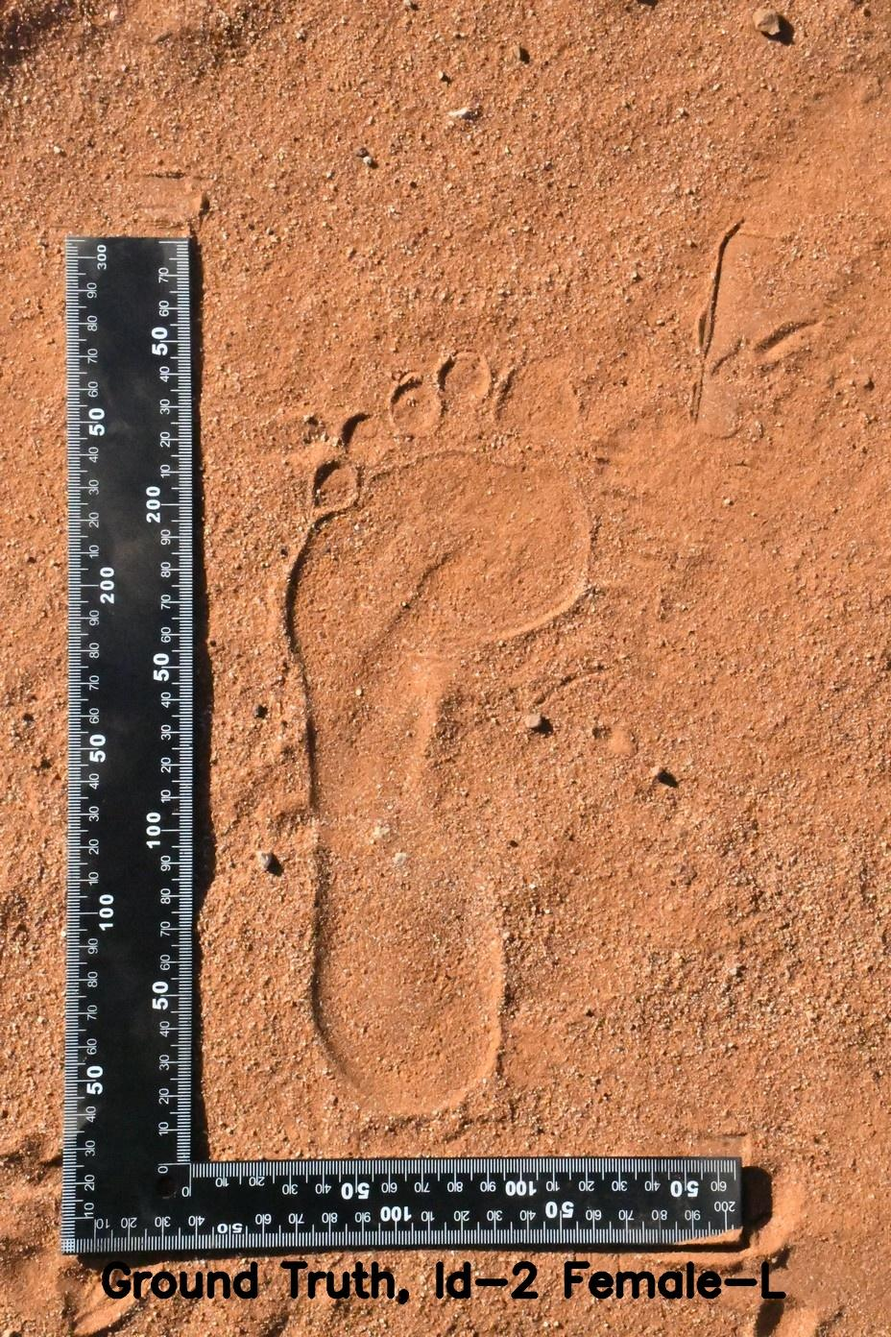human_foot_print: (247, 254, 695, 1149)
